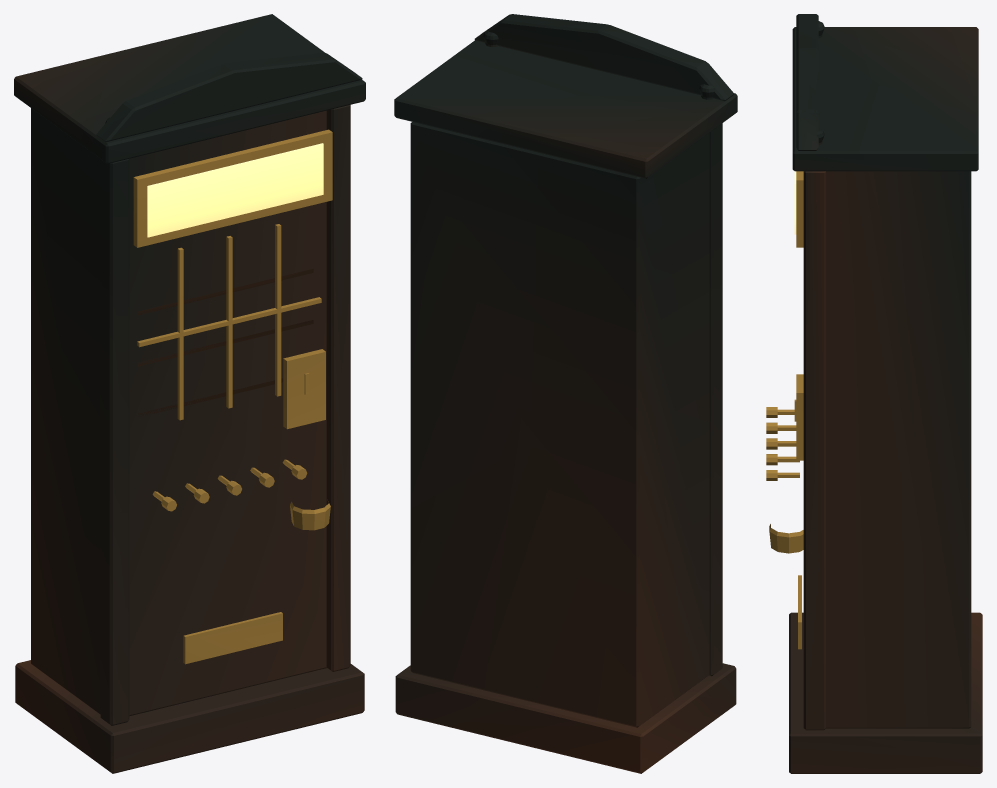
File: vending-machine.glb
3 renders of one model, left to right at view 1: azimuth 30°, elevation 25°; view 2: azimuth 150°, elevation 25°; view 3: azimuth 270°, elevation 25°, orthographic. The views are drawn at different scales.
Visible parts, largest first — view 1: vending-machine-case, vending-machine-brass, vending-machine-marquee; view 2: vending-machine-case; view 3: vending-machine-case, vending-machine-brass.
Part boxes in pixels (x1,y1,x2,y2): vending-machine-case: [14, 14, 365, 773]; vending-machine-brass: [133, 129, 332, 664]; vending-machine-marquee: [147, 143, 323, 237]; vending-machine-case: [394, 14, 737, 773]; vending-machine-case: [789, 14, 982, 773]; vending-machine-brass: [766, 171, 803, 649].
Size of the model in its own units: 0.8 by 1.97 by 0.58.
